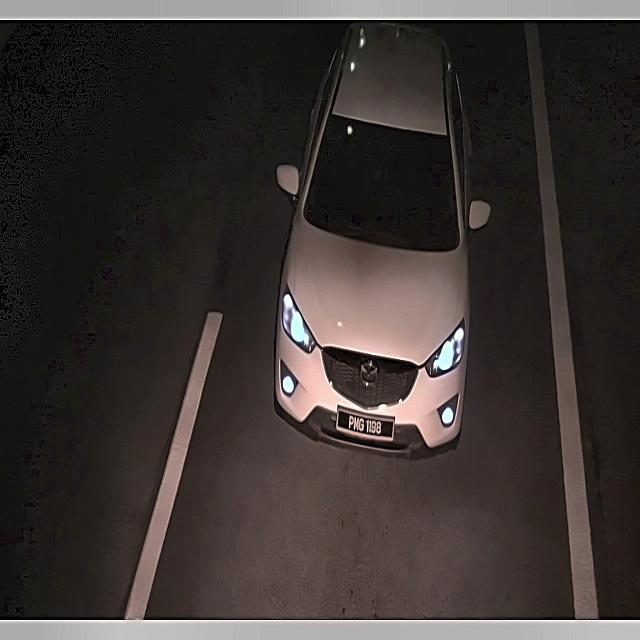car: (332, 401, 398, 439)
